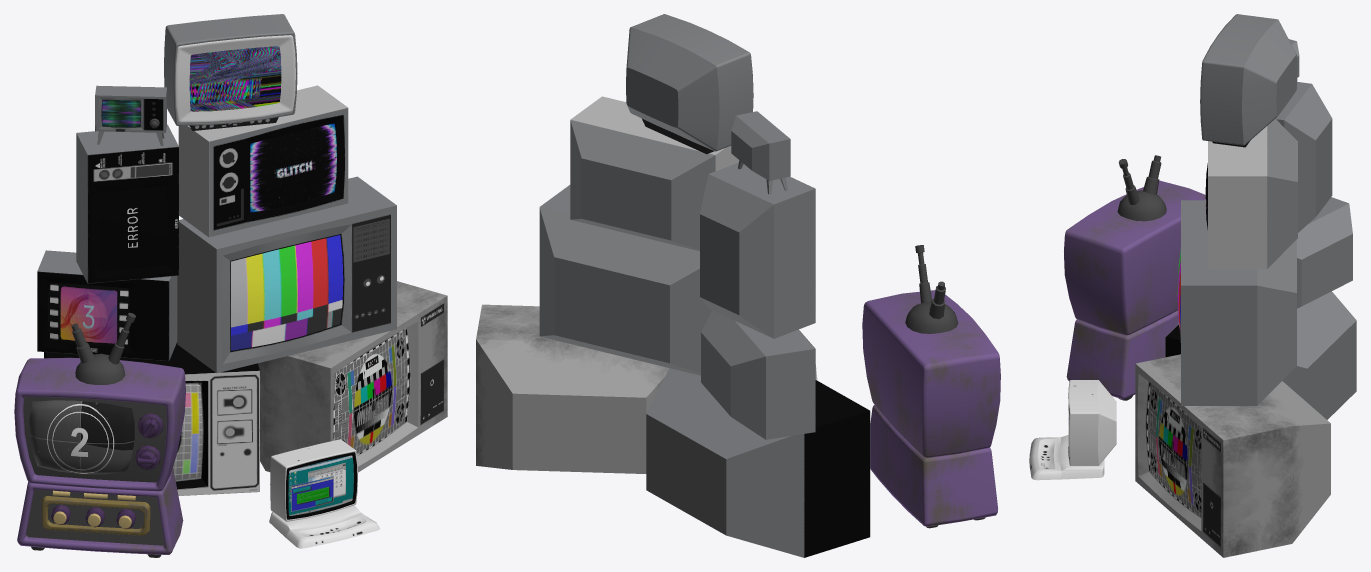
File: light.obj
The picture shows the model from 3 angles, left to right: view 1: azimuth 30°, elevation 25°; view 2: azimuth 150°, elevation 25°; view 3: azimuth 270°, elevation 25°; orthographic projection. The views are drawn at different scales.
Visible parts, largest first — view 1: TV_03_MTL_01_0, TV_02_MTL_02_0, TV_05_MTL_01_0, TV_MTL_02_0, TV_03_sreen_03_0, TV_07_MTL_01_0, Dai_MTL_02_0, TV_04_MTL_01_0, TV_08_MTL_01_0, TV_Sreen_01_0, TV_02_screen_10_0, TV_06_MTL_01_0 (+12 smaller); view 2: TV_04_MTL_01_0, TV_02_MTL_02_0, TV_03_MTL_01_0, TV_07_MTL_01_0, TV_MTL_02_0, TV_05_MTL_01_0, TV_08_MTL_01_0, TV_06_MTL_01_0, Dai_MTL_02_0, TV_09_MTL_01_0, antenna_MTL_02_0; view 3: TV_02_MTL_02_0, TV_03_MTL_01_0, TV_MTL_02_0, TV_05_MTL_01_0, TV_08_MTL_01_0, TV_04_MTL_01_0, PC_01_MTL_01_0, Dai_MTL_02_0, TV_02_screen_10_0, TV_07_MTL_01_0, TV_06_MTL_01_0, antenna_MTL_02_0.
Part boxes in pixels (x1=…): TV_03_MTL_01_0: x1=177, y1=176, x2=396, y2=373; TV_02_MTL_02_0: x1=258, y1=281, x2=447, y2=472; TV_05_MTL_01_0: x1=178, y1=85, x2=348, y2=237; TV_MTL_02_0: x1=14, y1=357, x2=185, y2=491; TV_03_sreen_03_0: x1=231, y1=235, x2=343, y2=350; TV_07_MTL_01_0: x1=76, y1=124, x2=178, y2=283; Dai_MTL_02_0: x1=17, y1=467, x2=183, y2=554; TV_04_MTL_01_0: x1=44, y1=342, x2=259, y2=495; TV_08_MTL_01_0: x1=164, y1=14, x2=297, y2=130; TV_Sreen_01_0: x1=29, y1=400, x2=134, y2=474; TV_02_screen_10_0: x1=333, y1=328, x2=410, y2=455; TV_06_MTL_01_0: x1=37, y1=250, x2=177, y2=360; TV_04_MTL_01_0: x1=646, y1=368, x2=870, y2=557; TV_02_MTL_02_0: x1=476, y1=304, x2=669, y2=473; TV_03_MTL_01_0: x1=539, y1=185, x2=712, y2=375; TV_07_MTL_01_0: x1=700, y1=162, x2=815, y2=338; TV_MTL_02_0: x1=862, y1=290, x2=1000, y2=457; TV_05_MTL_01_0: x1=570, y1=96, x2=739, y2=251; TV_08_MTL_01_0: x1=626, y1=14, x2=753, y2=154; TV_06_MTL_01_0: x1=701, y1=310, x2=815, y2=439; Dai_MTL_02_0: x1=870, y1=405, x2=997, y2=526; TV_09_MTL_01_0: x1=731, y1=111, x2=790, y2=194; antenna_MTL_02_0: x1=905, y1=245, x2=958, y2=333; TV_02_MTL_02_0: x1=1135, y1=354, x2=1330, y2=557; TV_03_MTL_01_0: x1=1180, y1=200, x2=1296, y2=405; TV_MTL_02_0: x1=1064, y1=180, x2=1205, y2=335; TV_05_MTL_01_0: x1=1208, y1=119, x2=1297, y2=269; TV_08_MTL_01_0: x1=1200, y1=14, x2=1297, y2=147; TV_04_MTL_01_0: x1=1165, y1=291, x2=1356, y2=419; PC_01_MTL_01_0: x1=1029, y1=380, x2=1116, y2=480; Dai_MTL_02_0: x1=1066, y1=310, x2=1178, y2=399; TV_02_screen_10_0: x1=1146, y1=382, x2=1201, y2=516; TV_07_MTL_01_0: x1=1275, y1=82, x2=1332, y2=232; TV_06_MTL_01_0: x1=1296, y1=197, x2=1352, y2=308; antenna_MTL_02_0: x1=1117, y1=155, x2=1166, y2=221.
Bounding box in the file's own units: 0.3095 × 0.2765 × 0.1947.
Materials: 12 (12 with a texture image).
